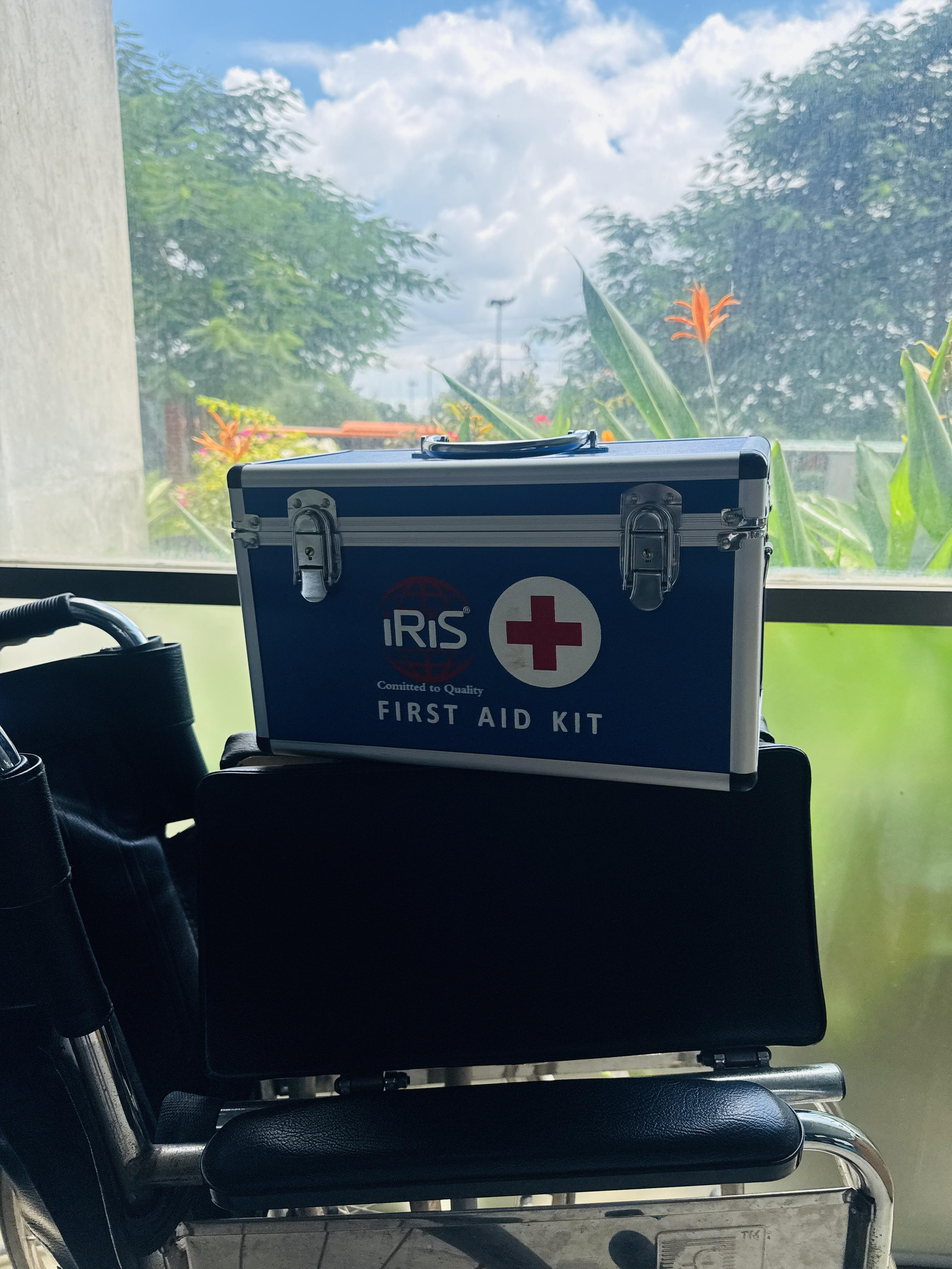FirstAidBox: (208, 401, 805, 830)
